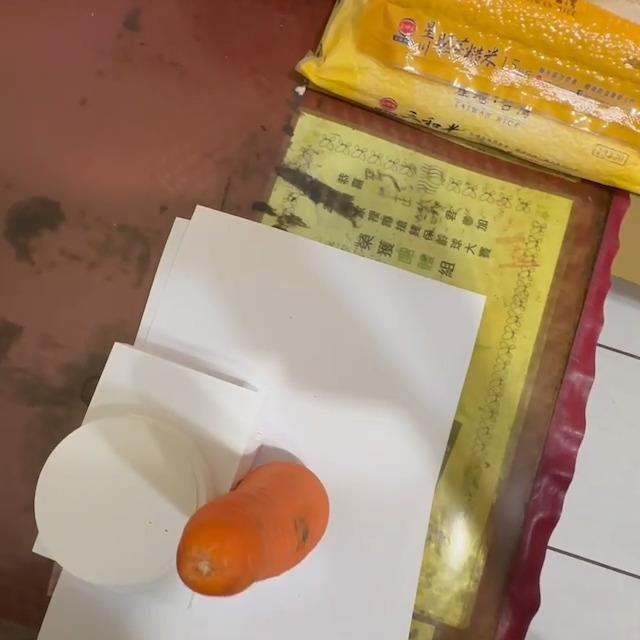carrot: (174, 460, 331, 600)
